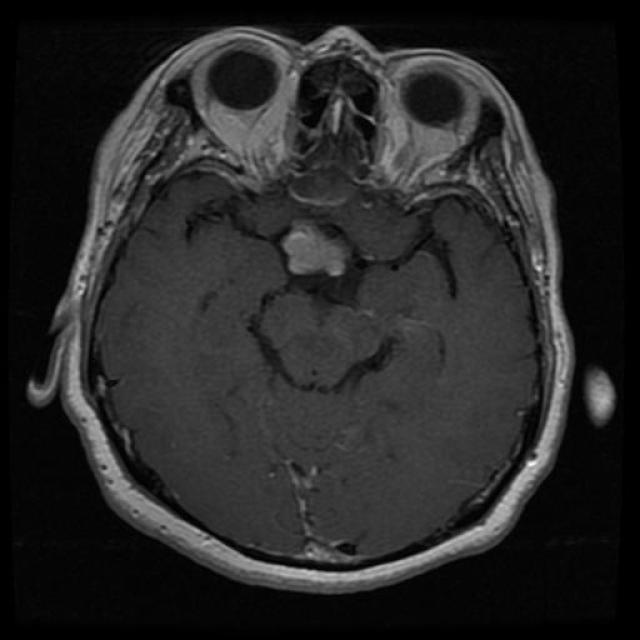pituitary: (276, 212, 368, 294)
